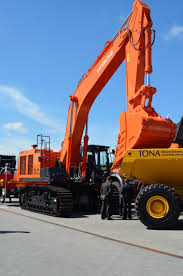excavator: (14, 1, 172, 217)
